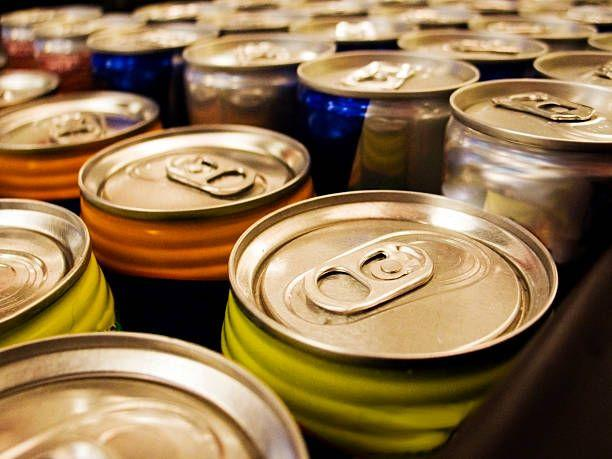metal: (224, 188, 556, 454), (77, 125, 316, 343), (441, 79, 608, 267), (297, 51, 476, 196), (0, 89, 165, 201), (0, 198, 117, 353), (180, 34, 330, 131), (1, 8, 101, 81)
